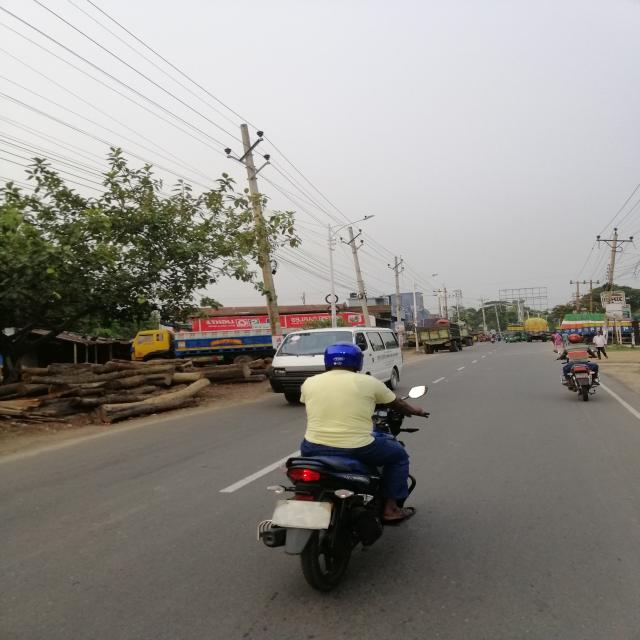Micro-Bus: (258, 321, 419, 407)
Motorbike: (229, 364, 463, 603), (528, 346, 628, 413)
Truck: (105, 316, 291, 391), (403, 318, 471, 369)
